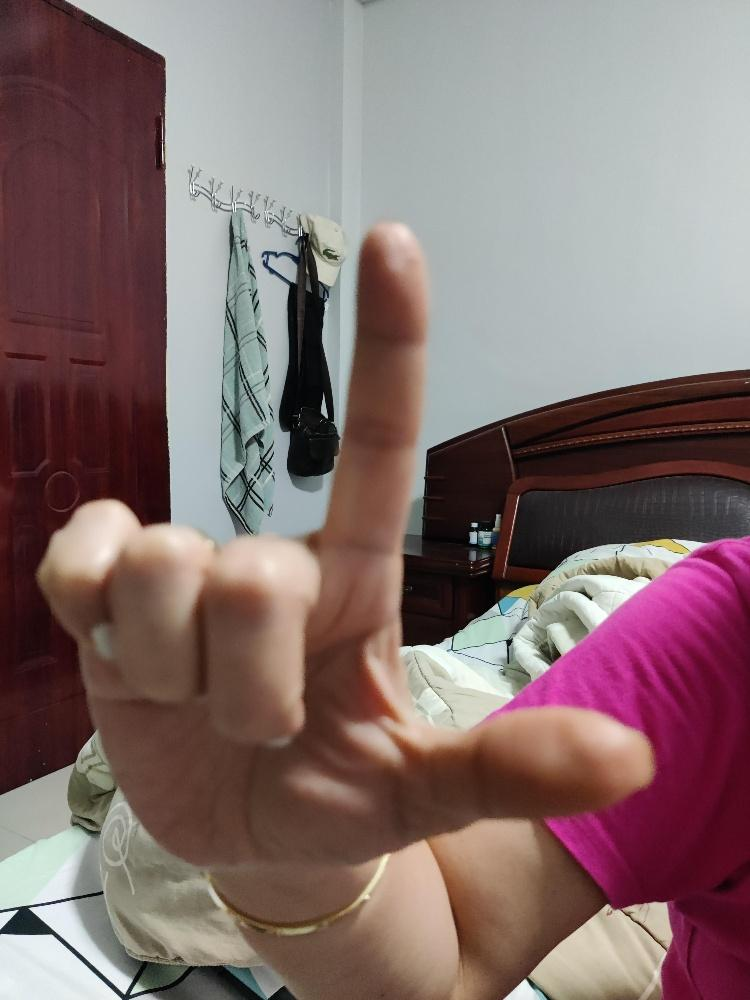l: (34, 218, 656, 868)
